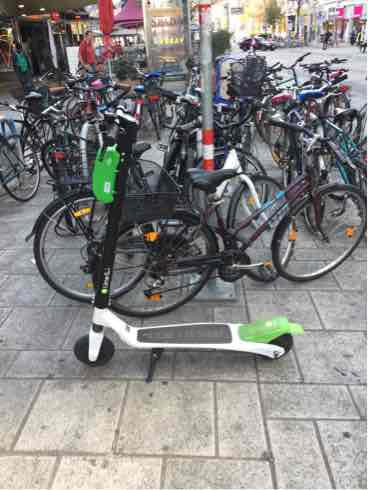scooter: (59, 68, 306, 372)
